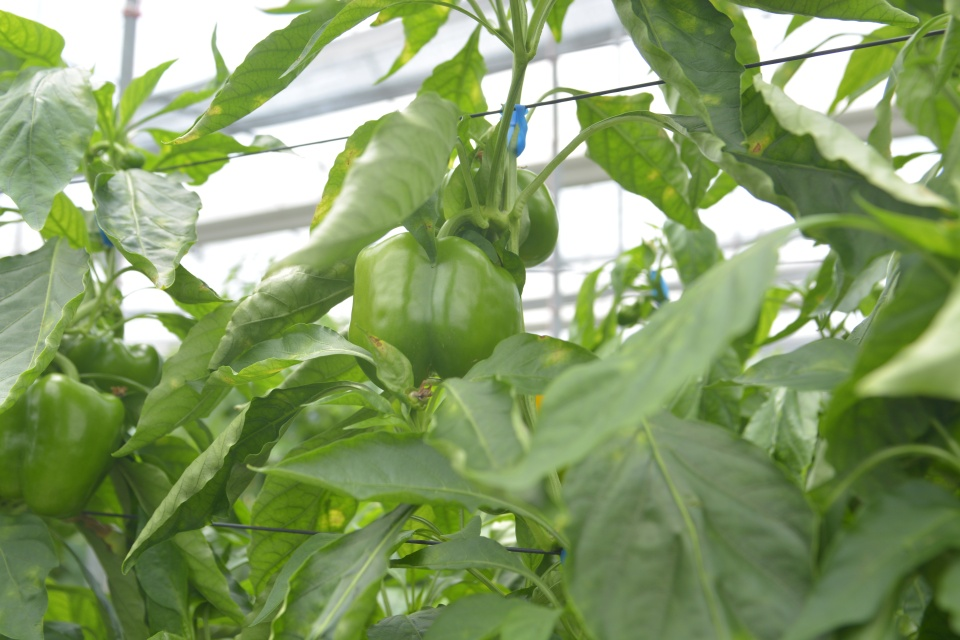fruit: (346, 229, 522, 396), (0, 375, 128, 519), (432, 164, 560, 270), (47, 330, 164, 429)
immature: (117, 147, 146, 170)
